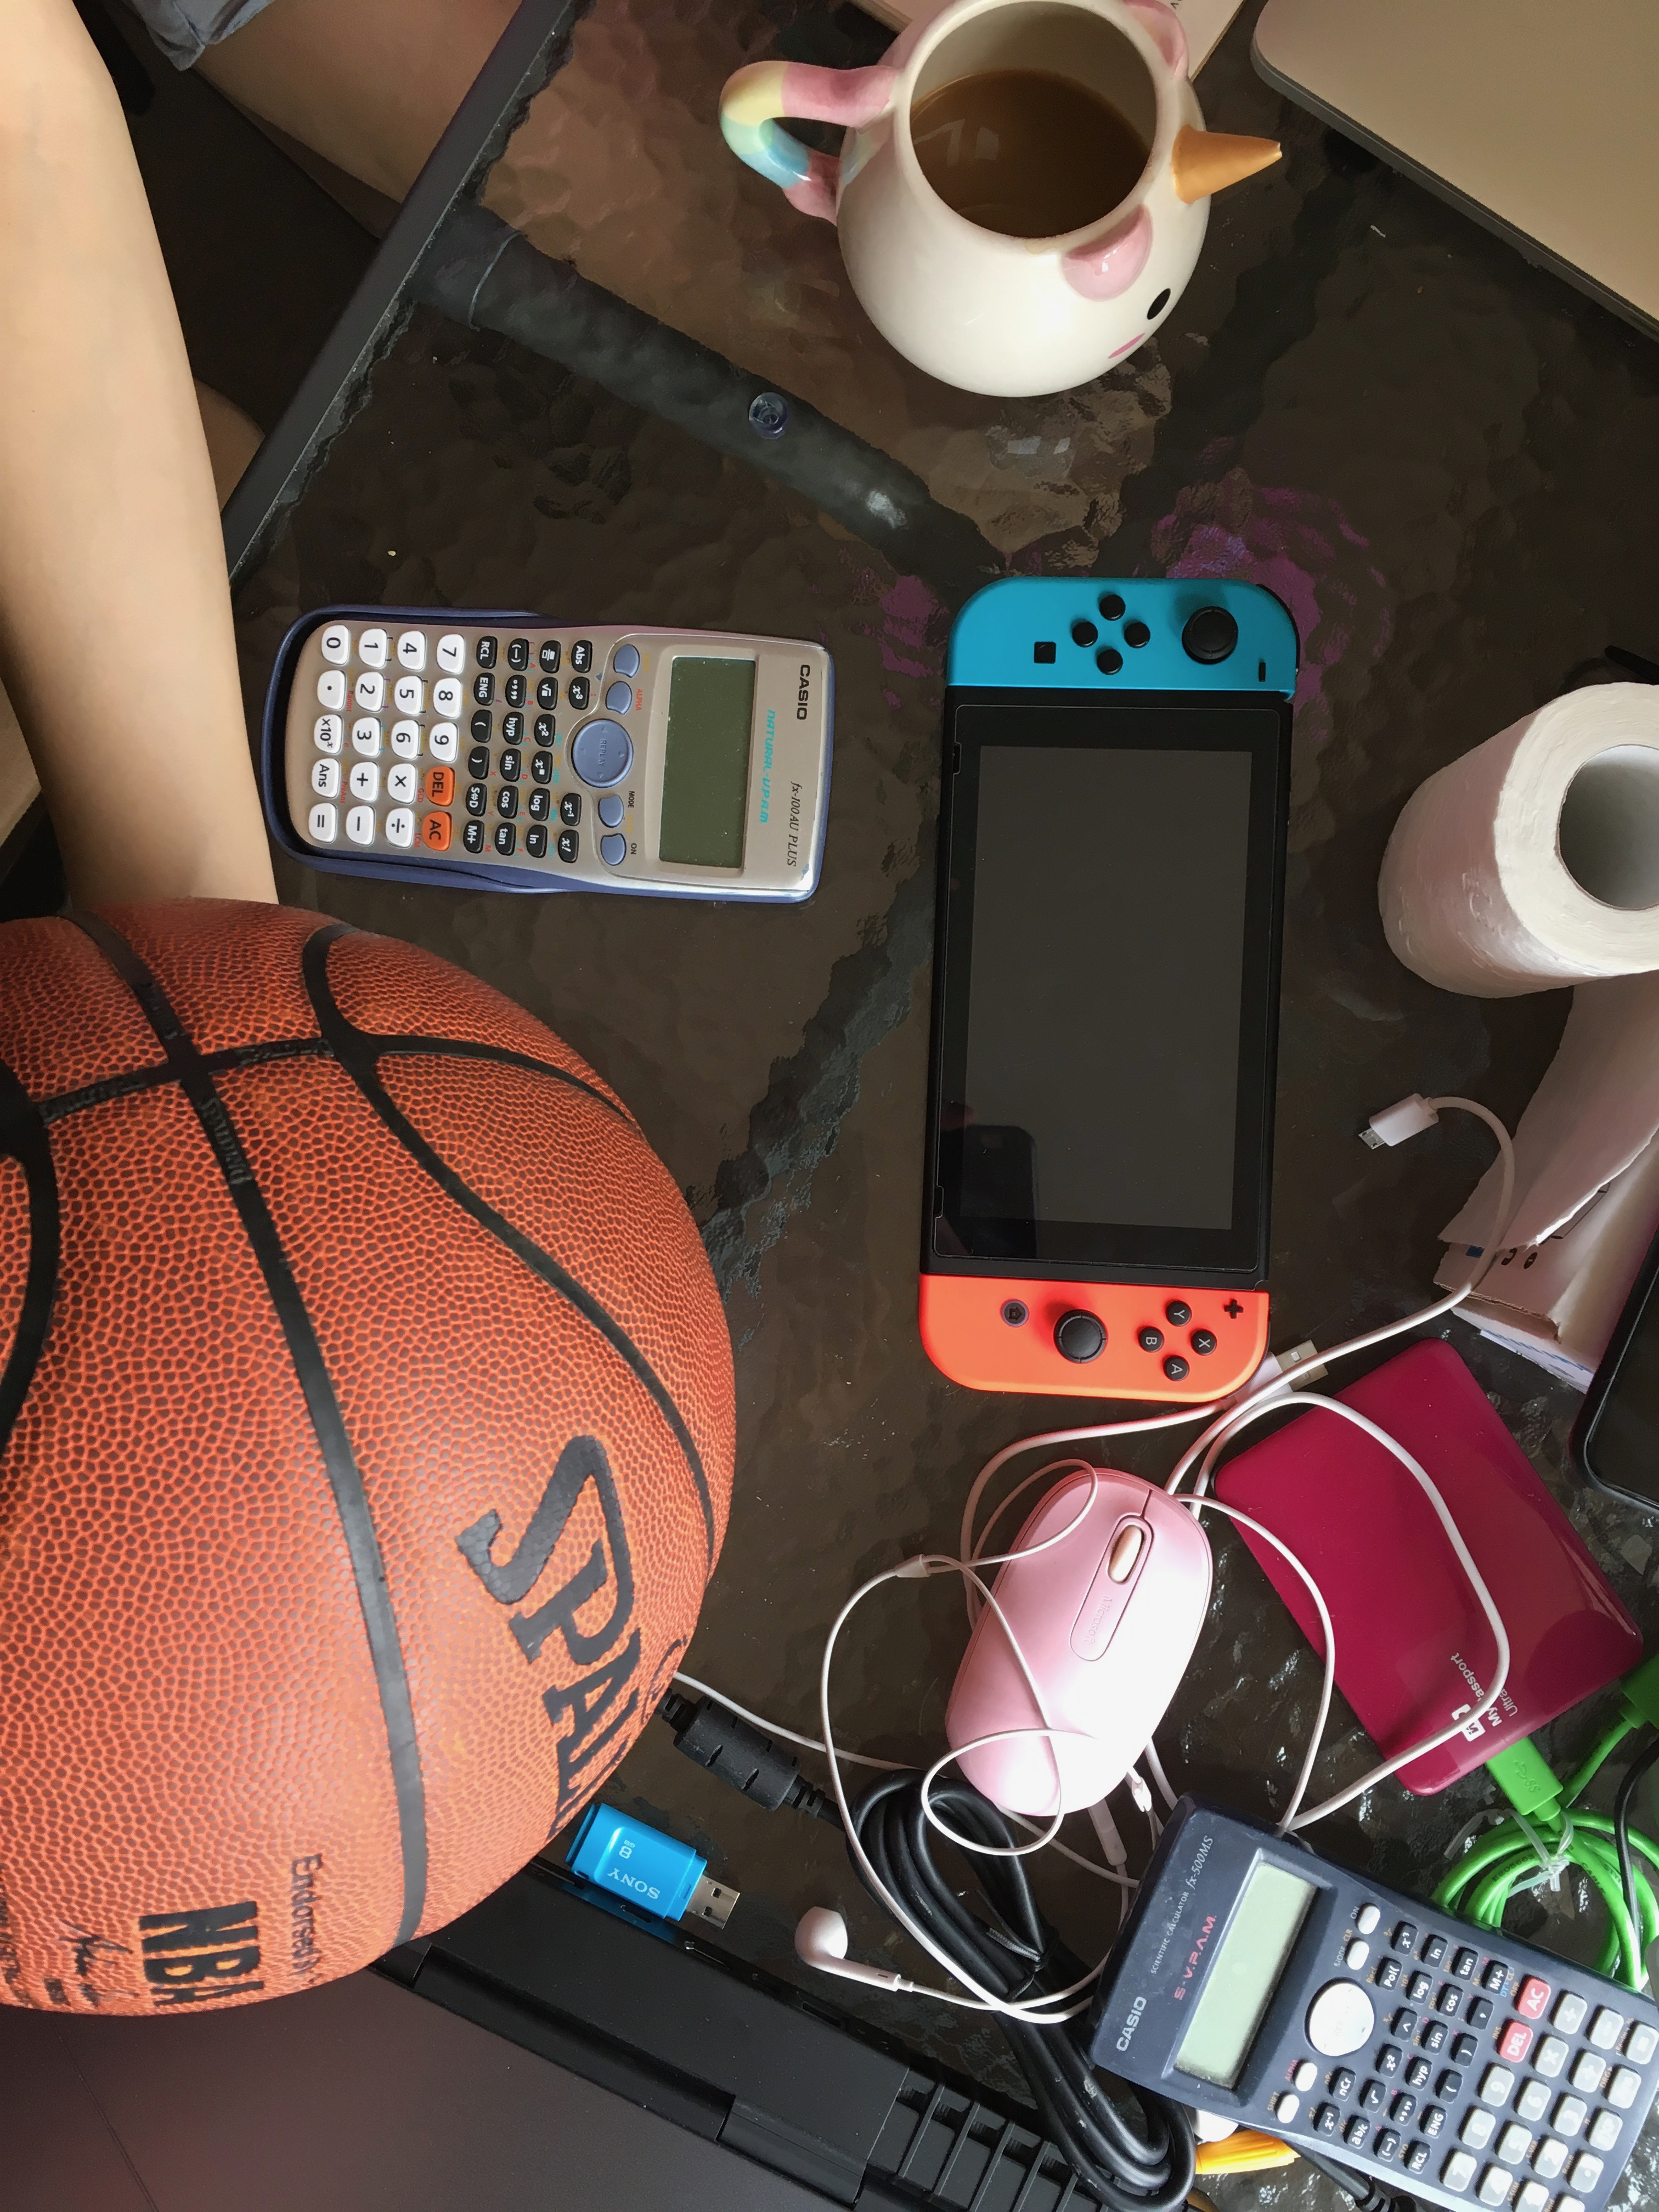Basketball: (0, 892, 760, 2033)
Calculator: (1072, 1806, 1659, 2212), (258, 592, 845, 906)
NintendoSwitch: (908, 559, 1316, 1411)
